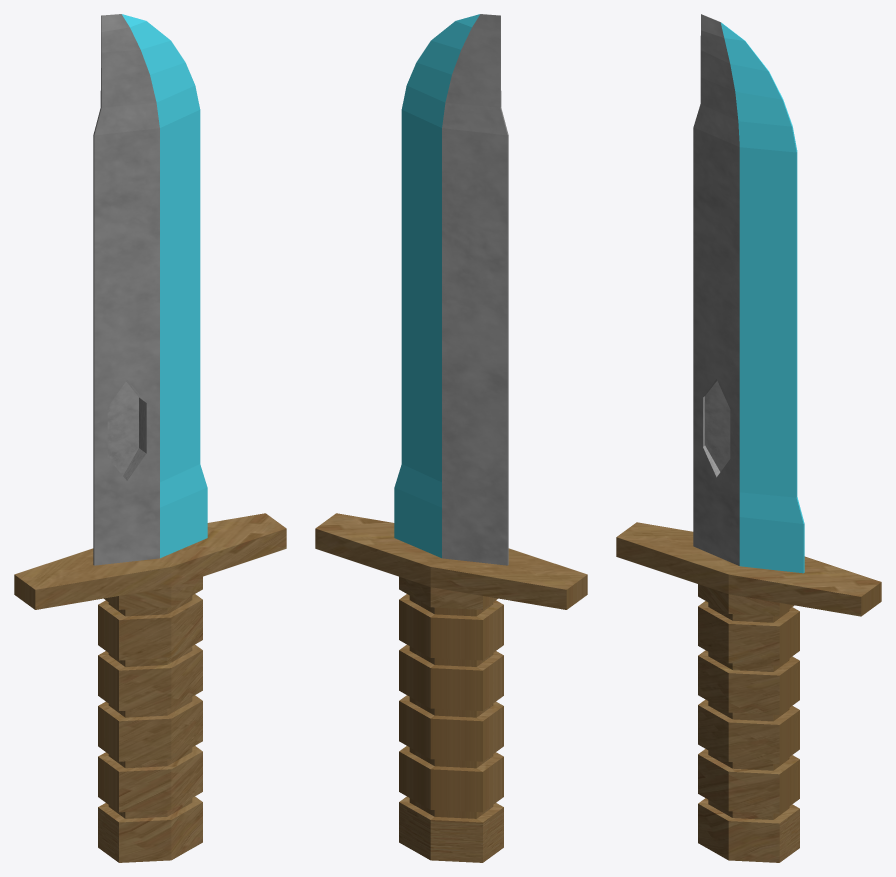
File: item_knife_diamond.fbx
3 views of the same model, side by side, from view 1: azimuth 30°, elevation 25°; view 2: azimuth 150°, elevation 25°; view 3: azimuth 330°, elevation 25° (orthographic). The views are drawn at different scales.
Visible parts, largest first — view 1: Cylinder; view 2: Cylinder; view 3: Cylinder.
Boxes of the visible parts, x1,y1,x2,y2 form: Cylinder: [14, 14, 286, 862]; Cylinder: [315, 14, 587, 862]; Cylinder: [616, 14, 881, 862].
Size of the model in its own units: 520 by 1662 by 150.
Materials: 3 (2 with a texture image).
